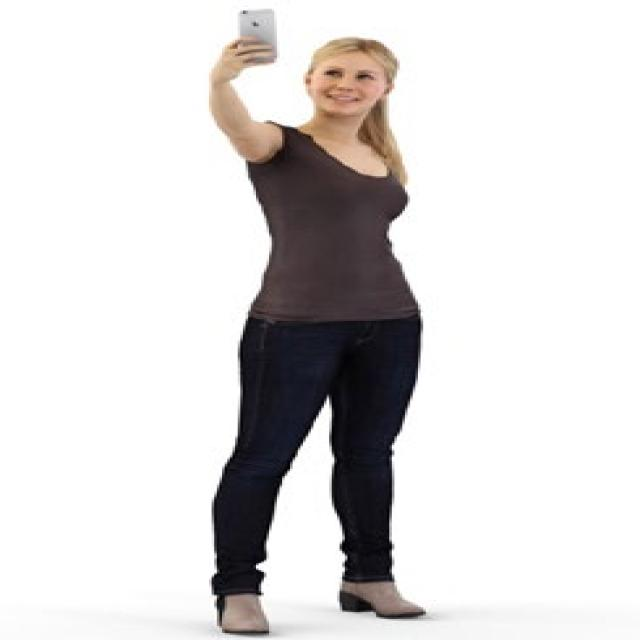standing: (200, 36, 433, 640)
